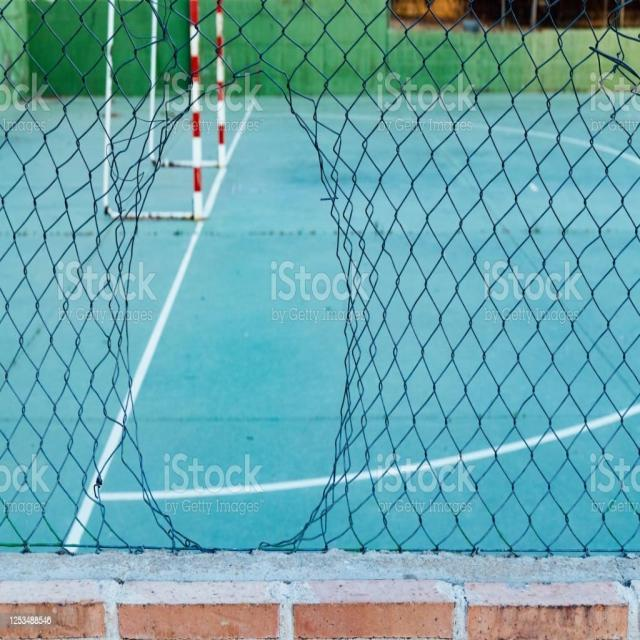fence line: (127, 78, 357, 543)
